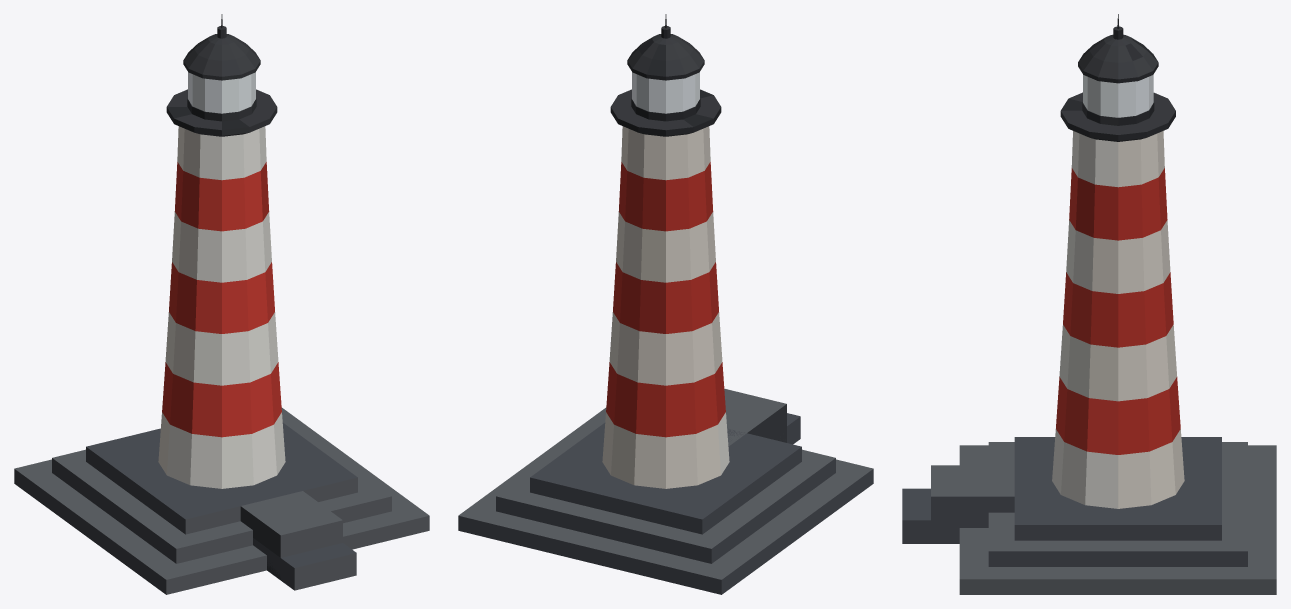
Rendered from landmark-far.glb.
3 views of the same model, side by side, from view 1: azimuth 30°, elevation 25°; view 2: azimuth 150°, elevation 25°; view 3: azimuth 270°, elevation 25° (orthographic). The views are drawn at different scales.
Parts seen in each view (by area): view 1: lighthouse-far; view 2: lighthouse-far; view 3: lighthouse-far.
Boxes of the visible parts, x1,y1,x2,y2 form: lighthouse-far: (14,14,429,594); lighthouse-far: (458,14,873,594); lighthouse-far: (902,14,1276,594).
Bounding box in the file's own units: 22 × 39.35 × 26.
1 material, 1 textured.
